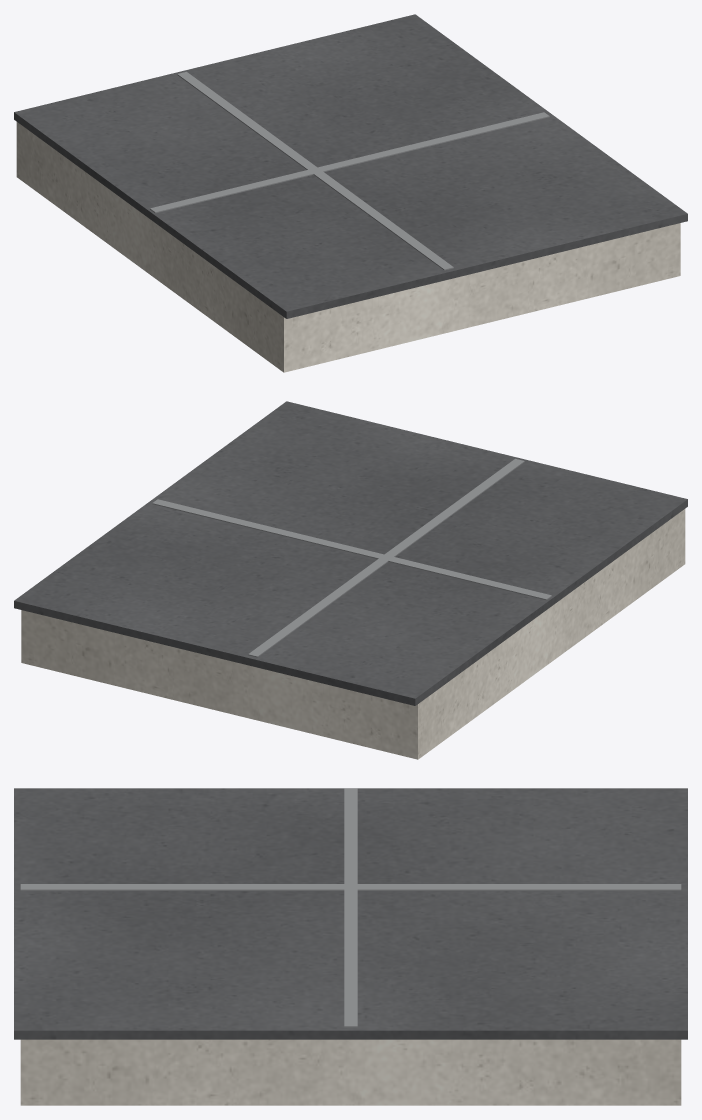
Rendered from floor_membrane_r_e1000.glb.
3 renders of one model, top to bottom at view 1: azimuth 30°, elevation 25°; view 2: azimuth 150°, elevation 25°; view 3: azimuth 270°, elevation 25°, orthographic. The views are drawn at different scales.
Visible parts, largest first — view 1: floor_membrane_r_e1000_membrane, floor_membrane_r_e1000_plaster, floor_membrane_r_e1000_seam; view 2: floor_membrane_r_e1000_membrane, floor_membrane_r_e1000_plaster, floor_membrane_r_e1000_seam; view 3: floor_membrane_r_e1000_membrane, floor_membrane_r_e1000_plaster, floor_membrane_r_e1000_seam.
Part boxes in pixels (<box>): floor_membrane_r_e1000_membrane: <box>14,14,687,318</box>; floor_membrane_r_e1000_plaster: <box>16,122,680,372</box>; floor_membrane_r_e1000_seam: <box>150,71,549,270</box>; floor_membrane_r_e1000_membrane: <box>14,401,687,705</box>; floor_membrane_r_e1000_plaster: <box>21,509,685,759</box>; floor_membrane_r_e1000_seam: <box>152,458,551,657</box>; floor_membrane_r_e1000_membrane: <box>14,788,687,1039</box>; floor_membrane_r_e1000_plaster: <box>20,1039,681,1105</box>; floor_membrane_r_e1000_seam: <box>20,788,681,1027</box>.
Size of the model in its own units: 1.7 by 0.259 by 2.
3 materials, 2 textured.
